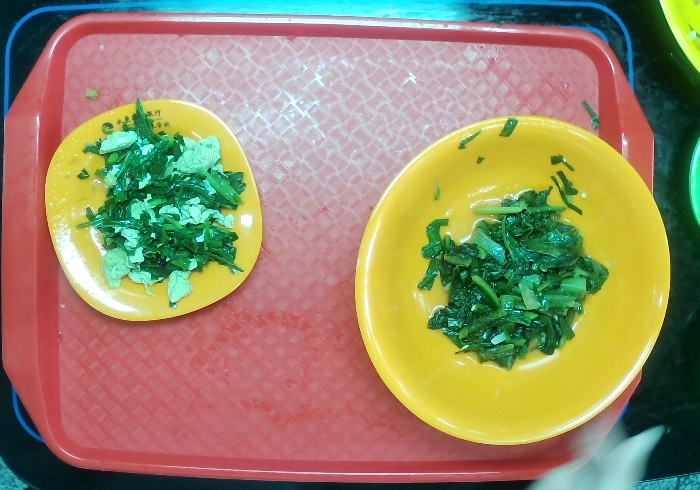YKMZ-Ju_Se_Fang_Die: (43, 97, 263, 324)
YKMZ-Ju_Se_Tang_Wan: (351, 113, 672, 446)
